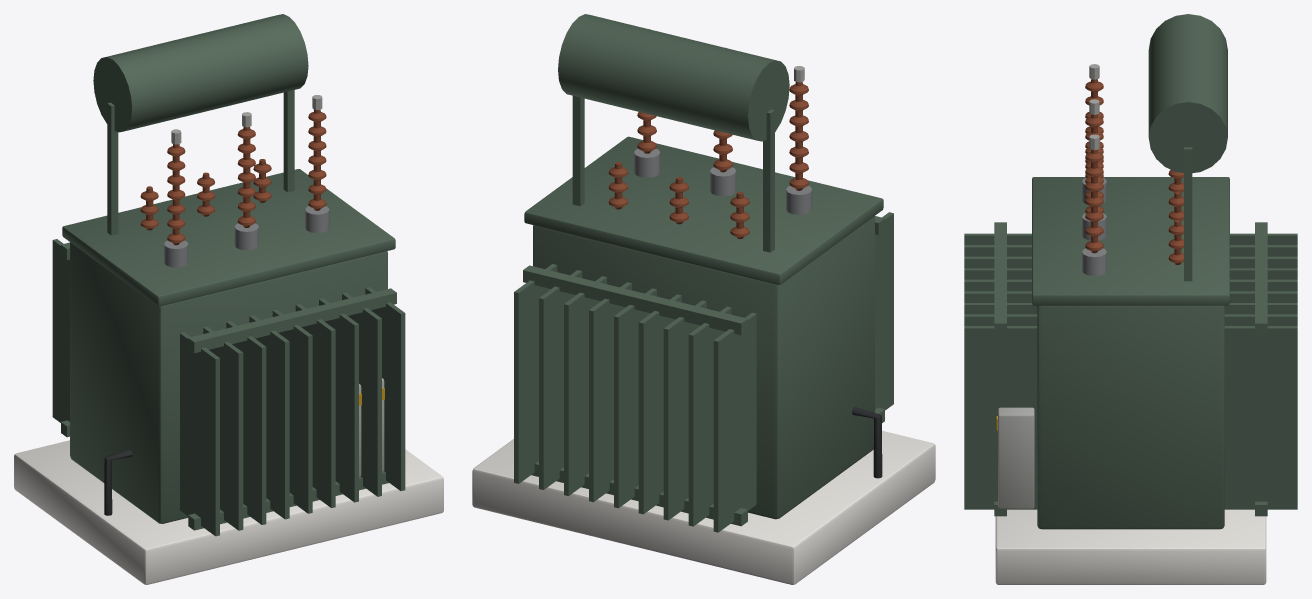
File: transformer.glb
The picture shows the model from 3 angles, left to right: view 1: azimuth 30°, elevation 25°; view 2: azimuth 150°, elevation 25°; view 3: azimuth 270°, elevation 25°; orthographic projection. The views are drawn at different scales.
Parts seen in each view (by area): view 1: Piece_lod0; view 2: Piece_lod0; view 3: Piece_lod0.
Boxes of the visible parts, bbox=[...] form: Piece_lod0: bbox=[14, 14, 443, 584]; Piece_lod0: bbox=[472, 14, 935, 584]; Piece_lod0: bbox=[964, 14, 1297, 584].
Size of what is drawn, in the model's own units: 3.4 by 4.8 by 3.2.
